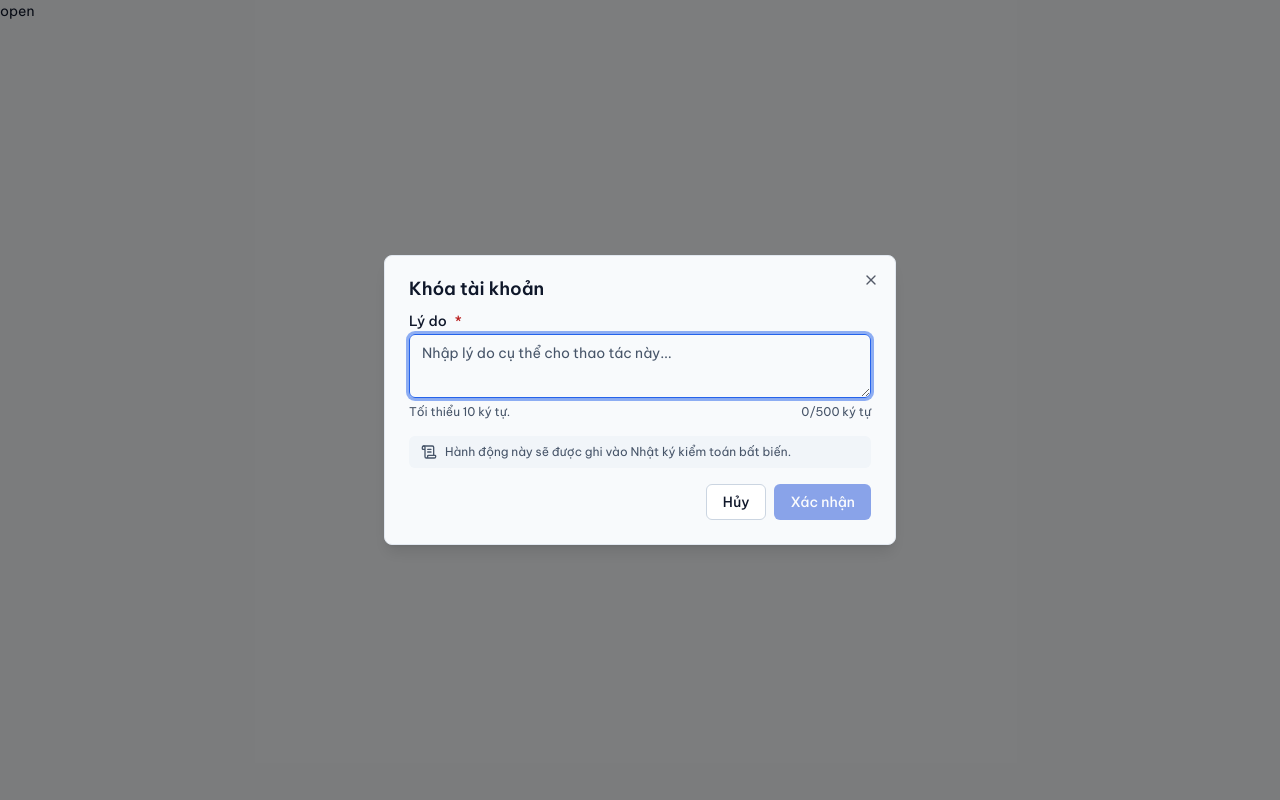
Test case: AuditReasonDialog (BR-GEN-04) › stays open and shows the API message + correlationId when the action fails
The image size is (1280, 800).
Type "Xác nhận hoàn tiền thủ công" into the text box labelled "Lý do *".
click(640, 366); type("Xác nhận hoàn tiền thủ công")  # box [409,334,871,398]
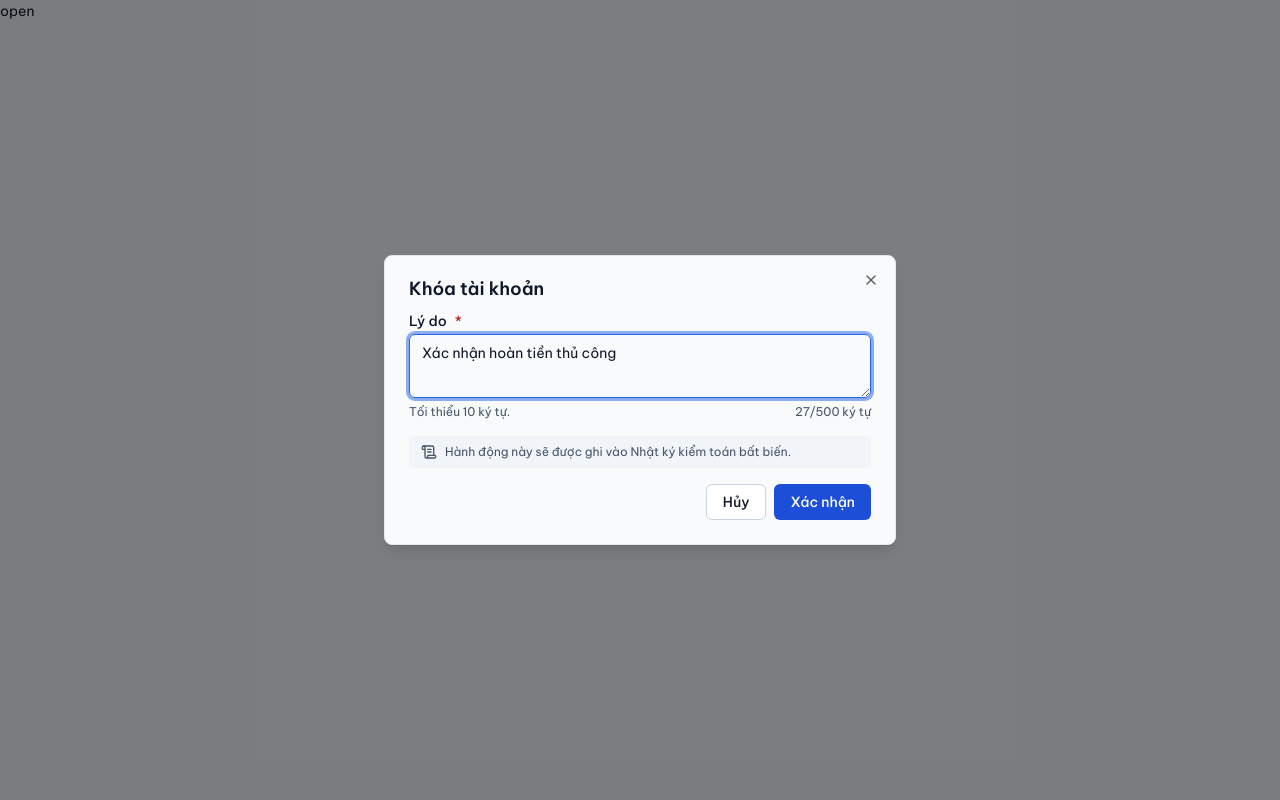
Click the button "Xác nhận".
click(823, 502)  # box [774,484,871,520]
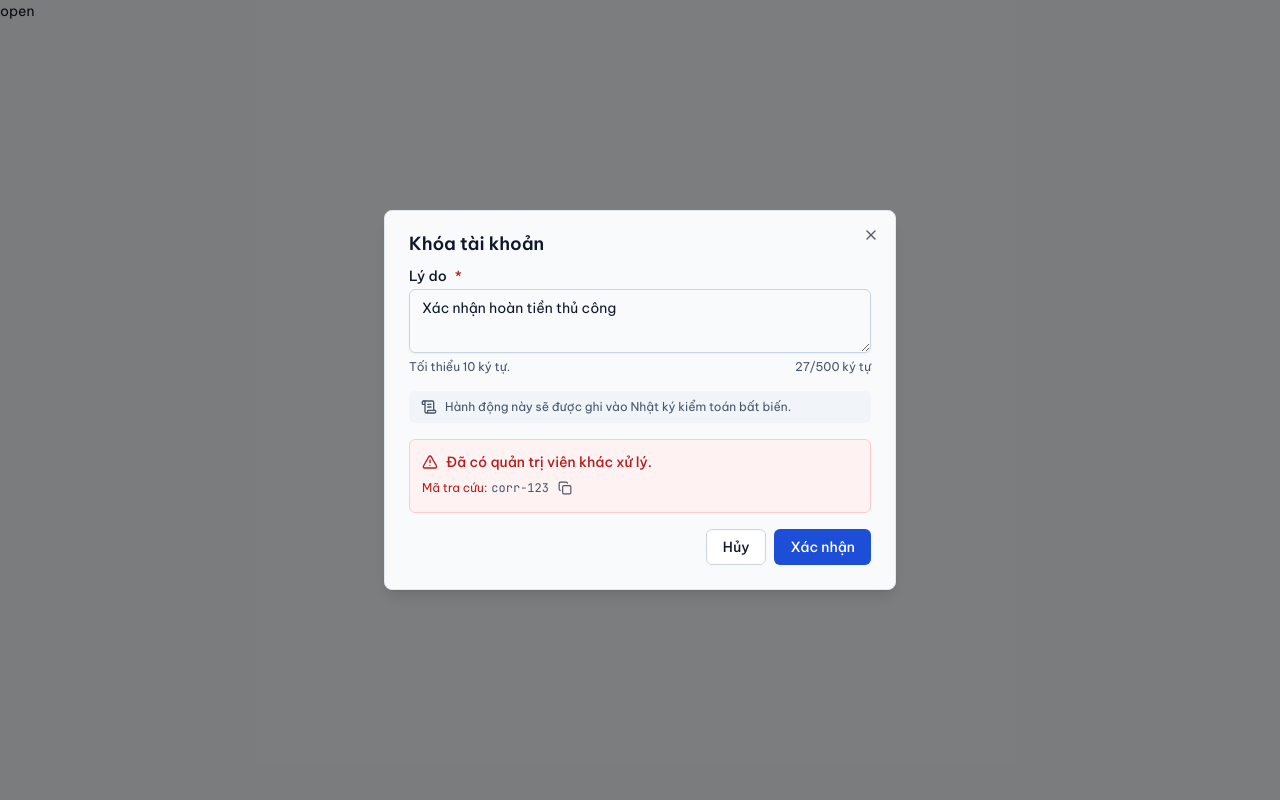
Expected: the text with test id "state" reads "open", [0,2,34,20]
Result: the message shows "Đã có quản trị viên khác xử lý." at [446,453,652,471]
Result: the text "corr-123" is shown at [491,480,549,496]
